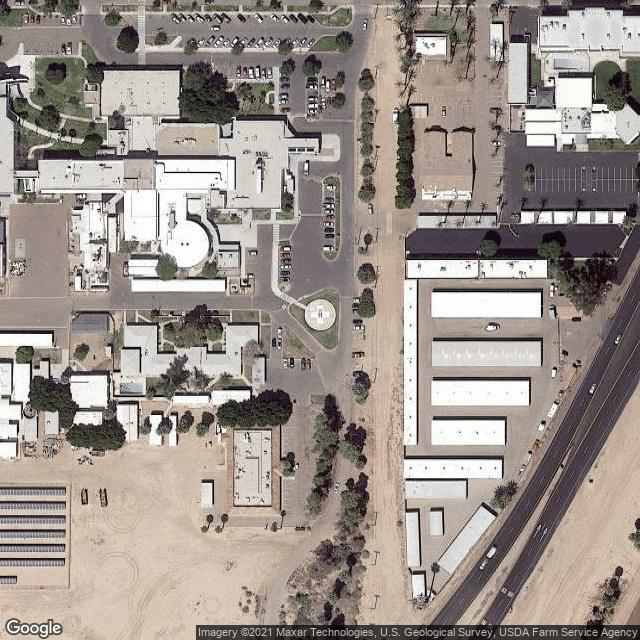Helipad: (304, 298, 338, 333)
